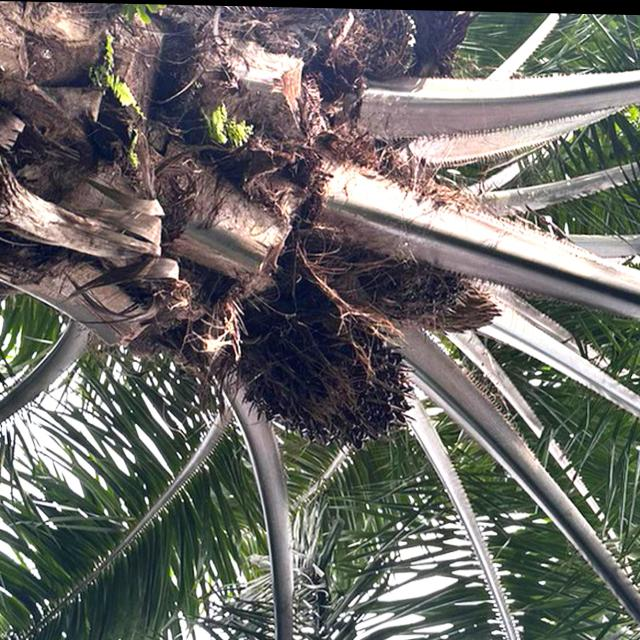ripe: (234, 292, 430, 466)
